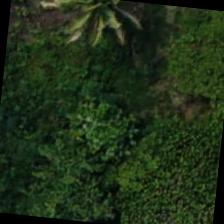Kelapa_Sawit: (54, 0, 149, 50)
